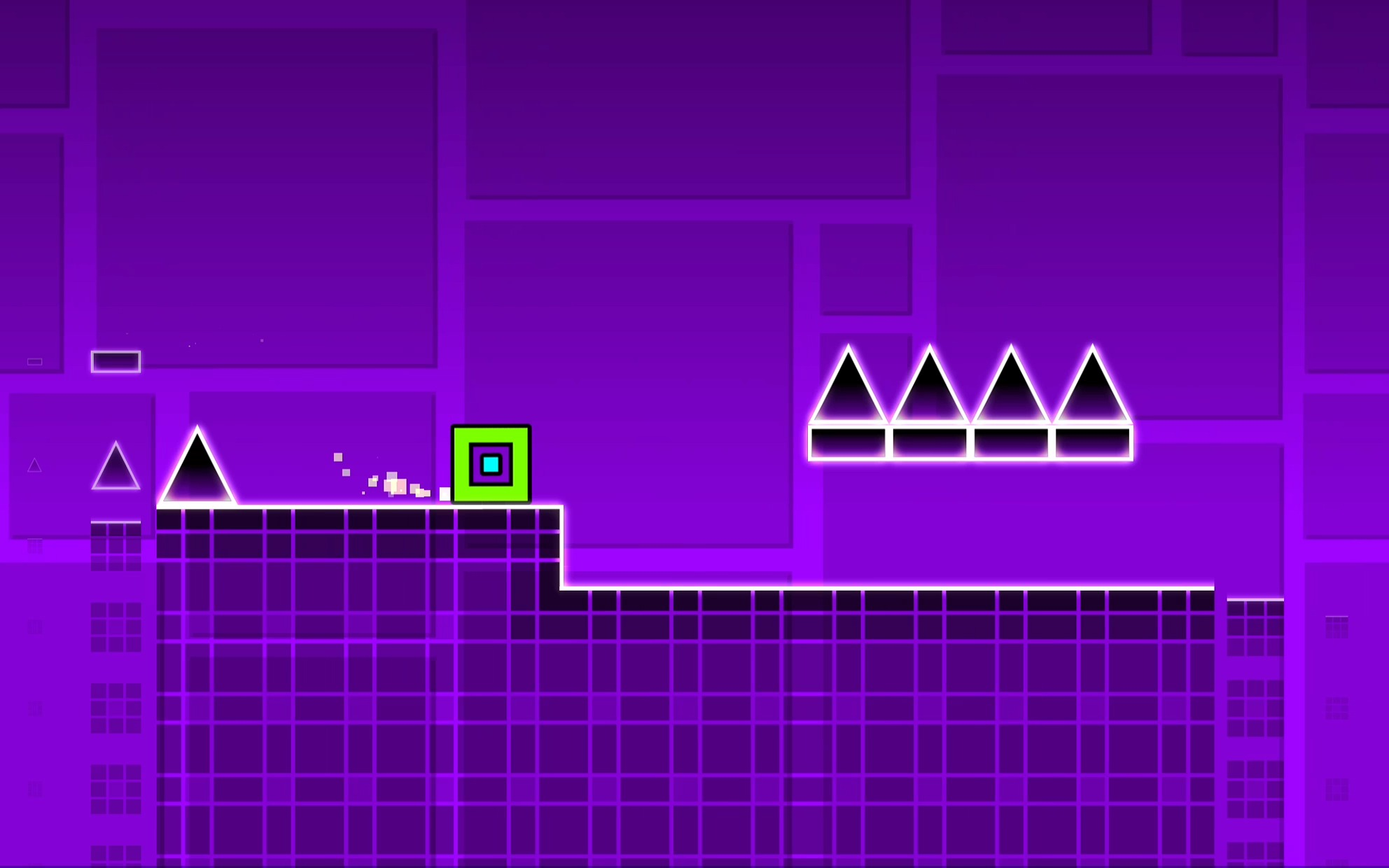Block2: (560, 581, 1307, 867), (153, 506, 564, 866)
Block3: (809, 425, 971, 459), (975, 424, 1054, 459), (1059, 427, 1139, 458), (90, 350, 139, 373)
Player: (449, 427, 531, 505)
Spike: (163, 427, 240, 507), (810, 344, 886, 422), (1055, 345, 1130, 422), (895, 346, 969, 422), (976, 346, 1048, 421), (91, 442, 139, 490)
